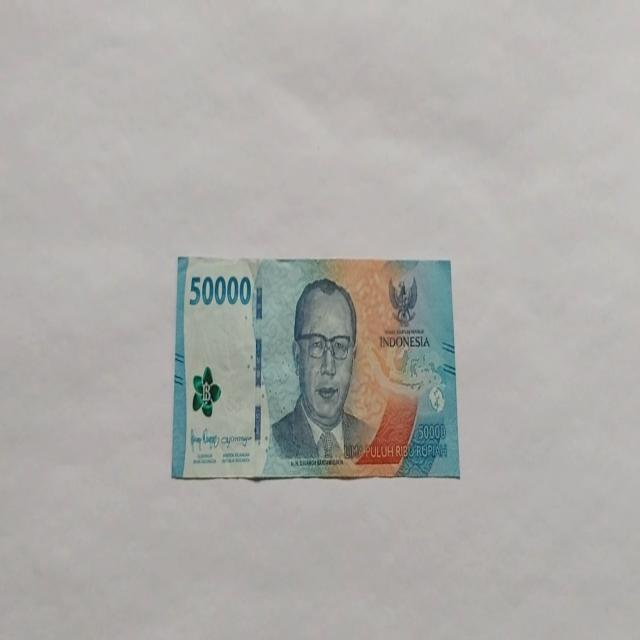lima puluh ribu rupiah: (170, 253, 460, 483), (266, 276, 378, 468)
